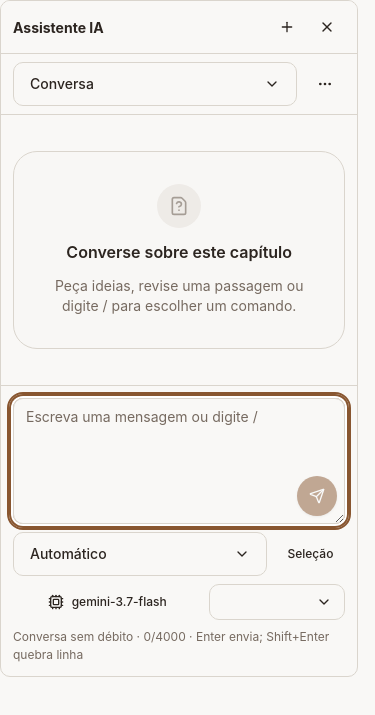
Test: chat do capítulo › mantém a nova resposta ativa quando a geração interrompida termina ou envia chunks tardios
In the text box named "Mensagem para o Assistente IA": (179, 461) [13,398,345,524], type "Primeiro pedido"
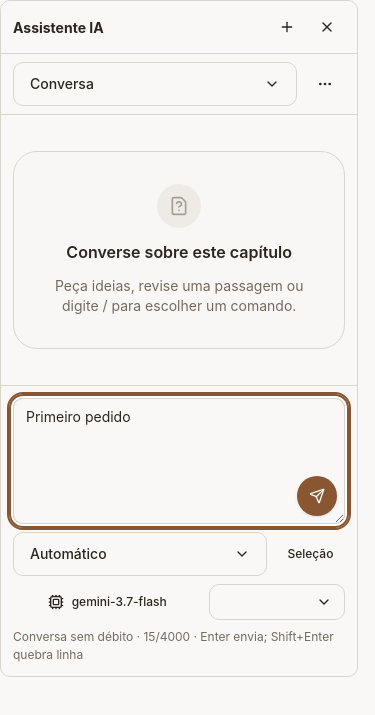
Click the button named "Enviar": (317, 496) [297,476,337,516]
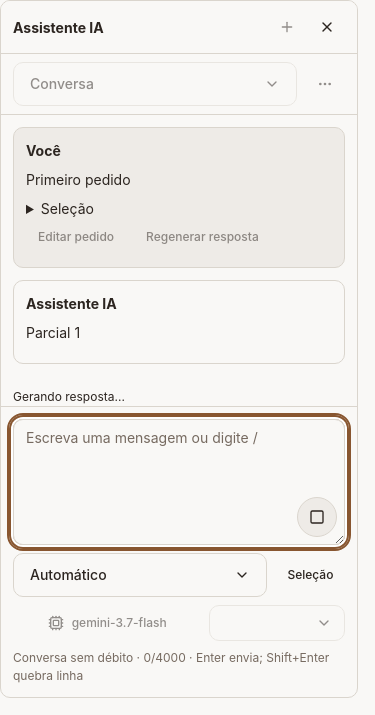
Expected: the text "Parcial 1" is shown, [26,324,80,341]
Click the button named "Parar": (317, 517) [297,497,337,537]
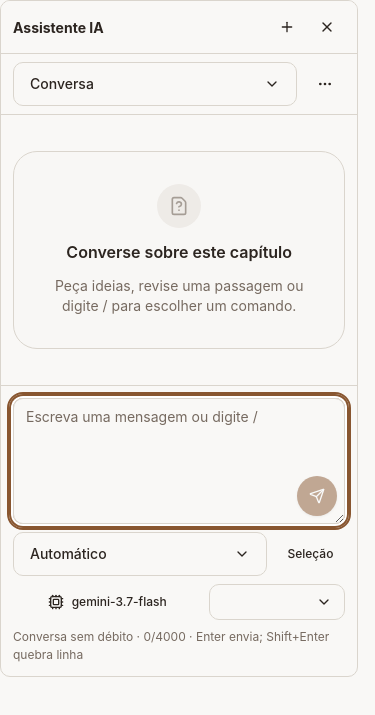
In the text box named "Mensagem para o Assistente IA": (179, 461) [13,398,345,524], type "Segundo pedido"
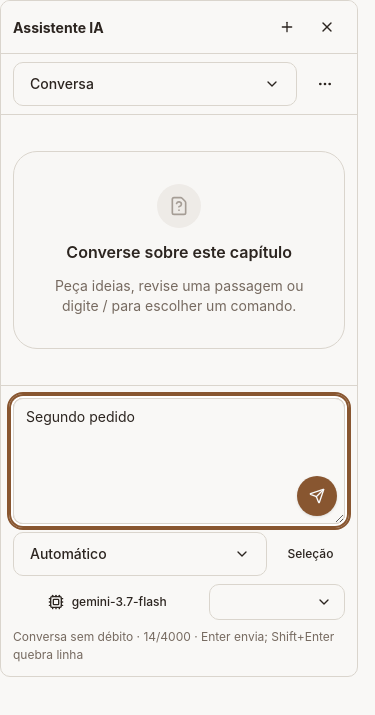
Click the button named "Enviar": (317, 496) [297,476,337,516]
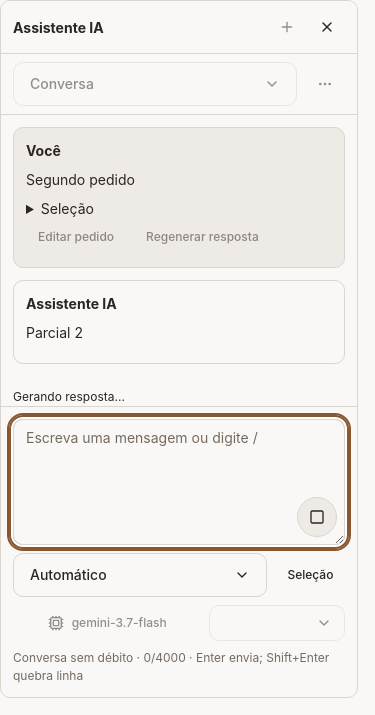
Expected: the text "Parcial 2" is shown, [26,324,83,341]
Expected: the button named "Parar" is shown, [297,497,337,537]
